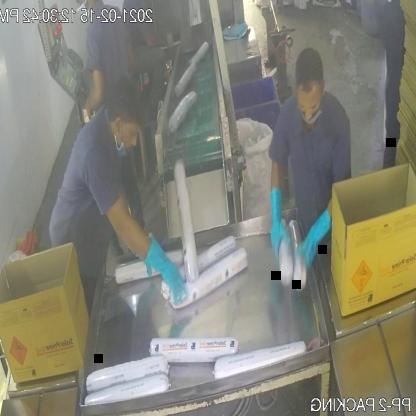glove: (138, 228, 193, 308), (296, 198, 344, 281), (262, 177, 294, 268)
no_glove: (81, 56, 107, 125)
